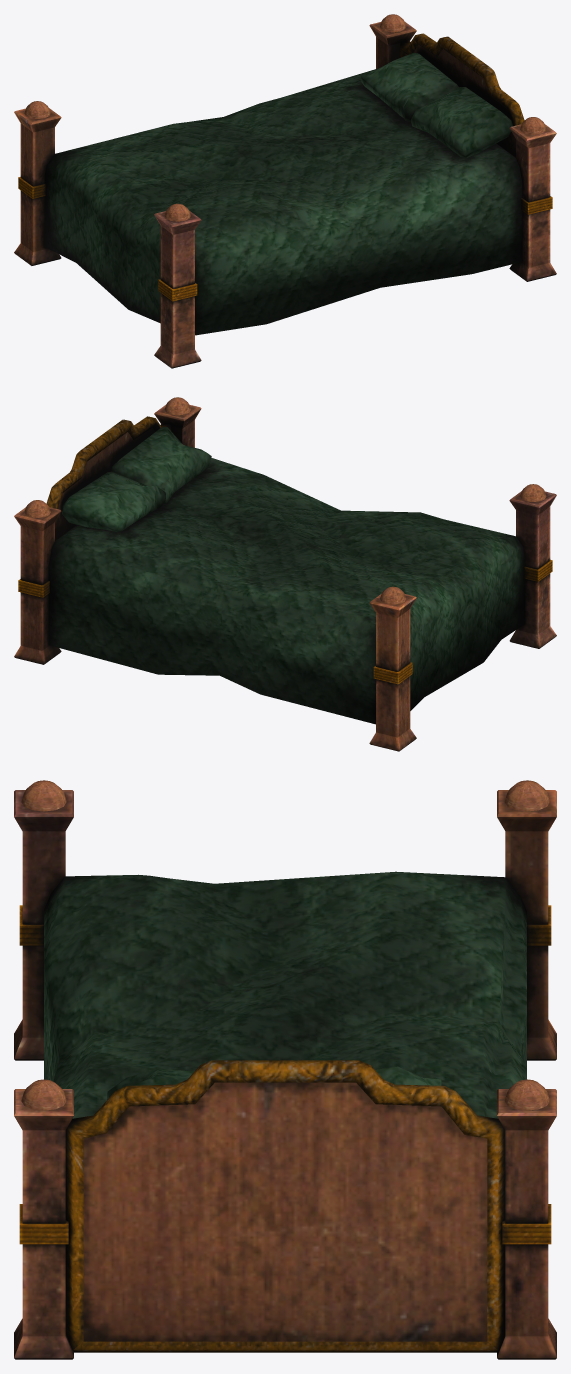
Rendered from bed_nice_low.DAE.
3 renders of one model, top to bottom at view 1: azimuth 30°, elevation 25°; view 2: azimuth 150°, elevation 25°; view 3: azimuth 270°, elevation 25°, orthographic. The views are drawn at different scales.
Visible parts, largest first — view 1: bed_nice_mesh002; view 2: bed_nice_mesh002; view 3: bed_nice_mesh002.
Part boxes in pixels (left/top/right/bottom): bed_nice_mesh002: left=14, top=14, right=556, bottom=368; bed_nice_mesh002: left=14, top=397, right=556, bottom=751; bed_nice_mesh002: left=14, top=780, right=556, bottom=1359.
Size of the model in its own units: 3.31 by 1.37 by 2.34.
